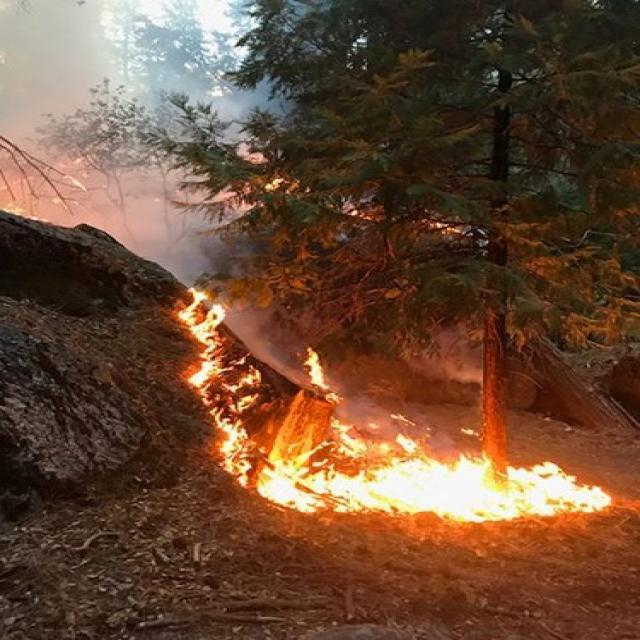Fire: (168, 282, 622, 538)
